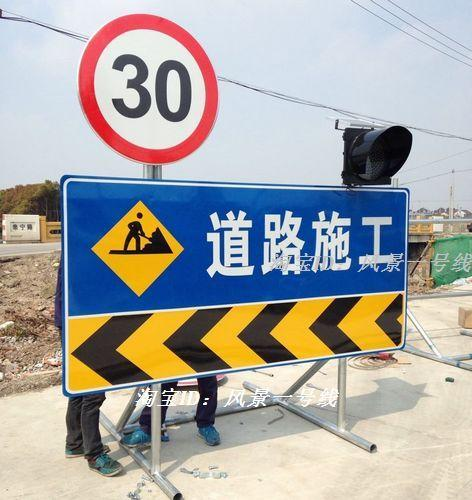sign: (65, 179, 406, 353)
